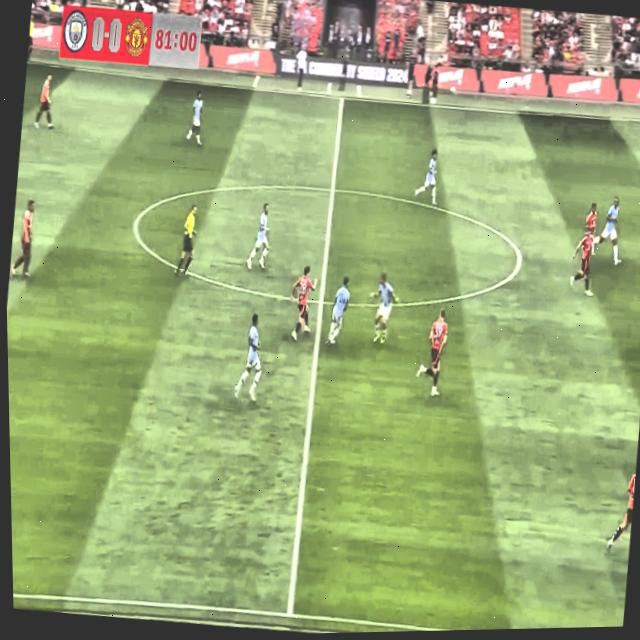ball: (323, 315, 340, 346)
players: (409, 296, 460, 402), (360, 258, 404, 369), (226, 304, 272, 409), (599, 446, 640, 554), (564, 218, 610, 304), (239, 187, 279, 278), (284, 262, 325, 347), (412, 133, 450, 219), (323, 268, 358, 360), (592, 191, 630, 274), (9, 192, 40, 284), (576, 194, 606, 269), (30, 67, 63, 134), (181, 78, 210, 154)
refree: (172, 194, 208, 282), (26, 9, 40, 61)
